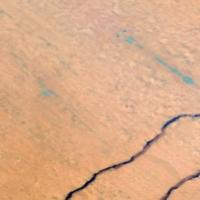crack: (58, 109, 199, 199)
